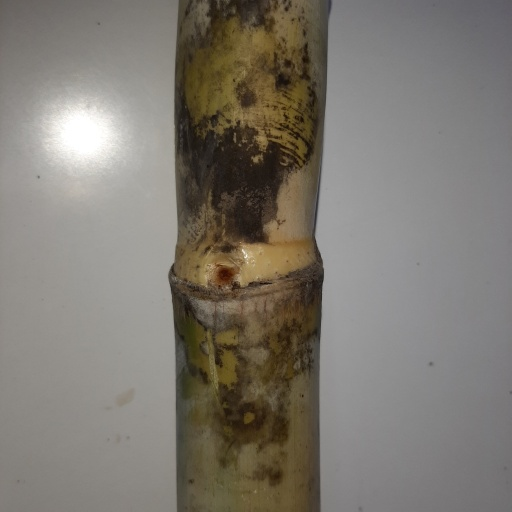Damage_Bud: (208, 263, 237, 290)
